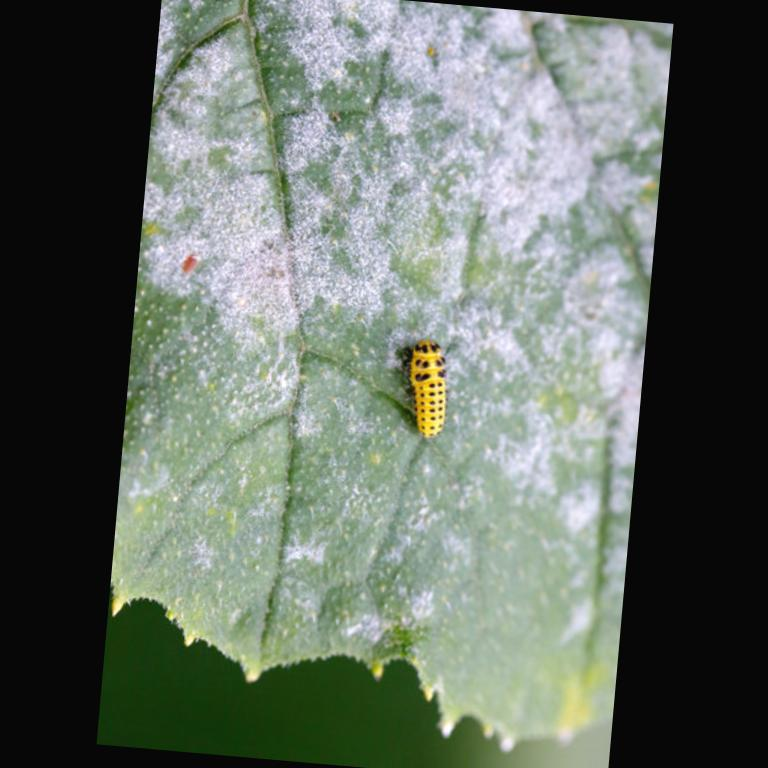powdery-mildew: (157, 14, 582, 346)
